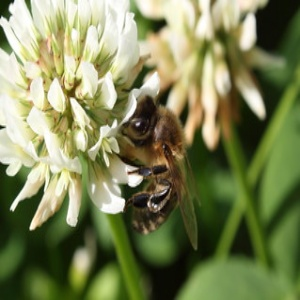bee: (126, 97, 200, 252)
